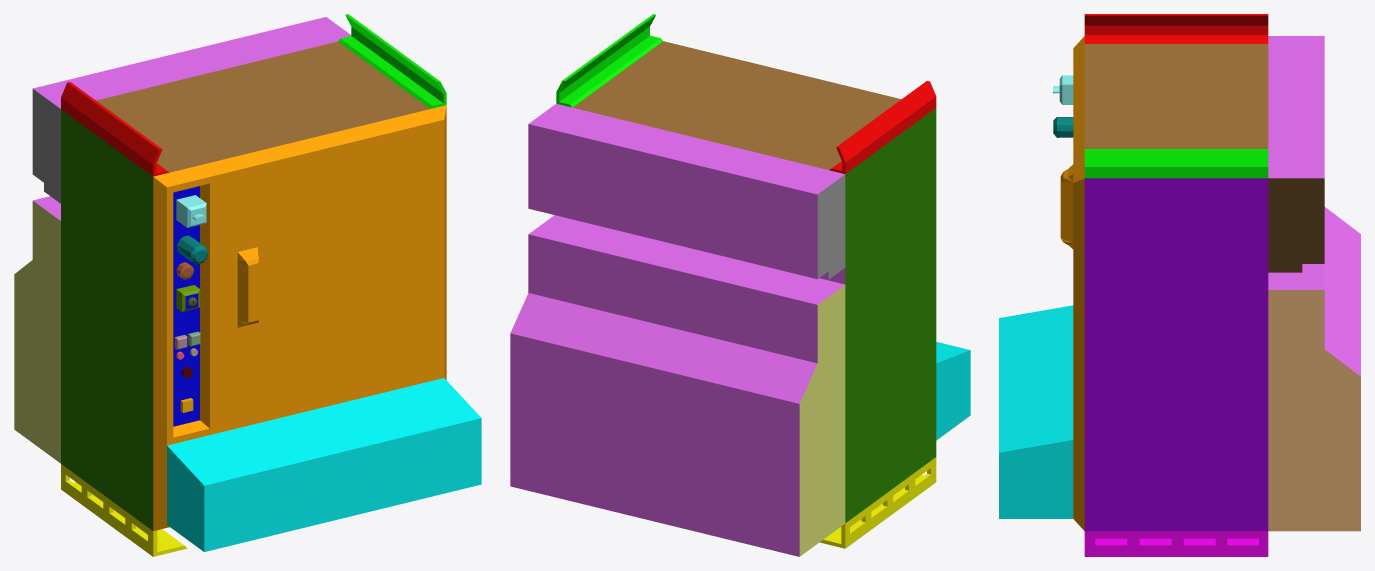
Rendered from IRC5.fbx.
3 views of the same model, side by side, from view 1: azimuth 30°, elevation 25°; view 2: azimuth 150°, elevation 25°; view 3: azimuth 270°, elevation 25° (orthographic).
Visible parts, largest first — view 1: Cube; view 2: Cube; view 3: Cube.
Boxes of the visible parts, x1,y1,x2,y2 form: Cube: (14, 14, 481, 556); Cube: (510, 14, 970, 556); Cube: (999, 14, 1360, 556).
Size of the model in its own units: 367 by 484 by 393.
Materials: 1 (1 with a texture image).
